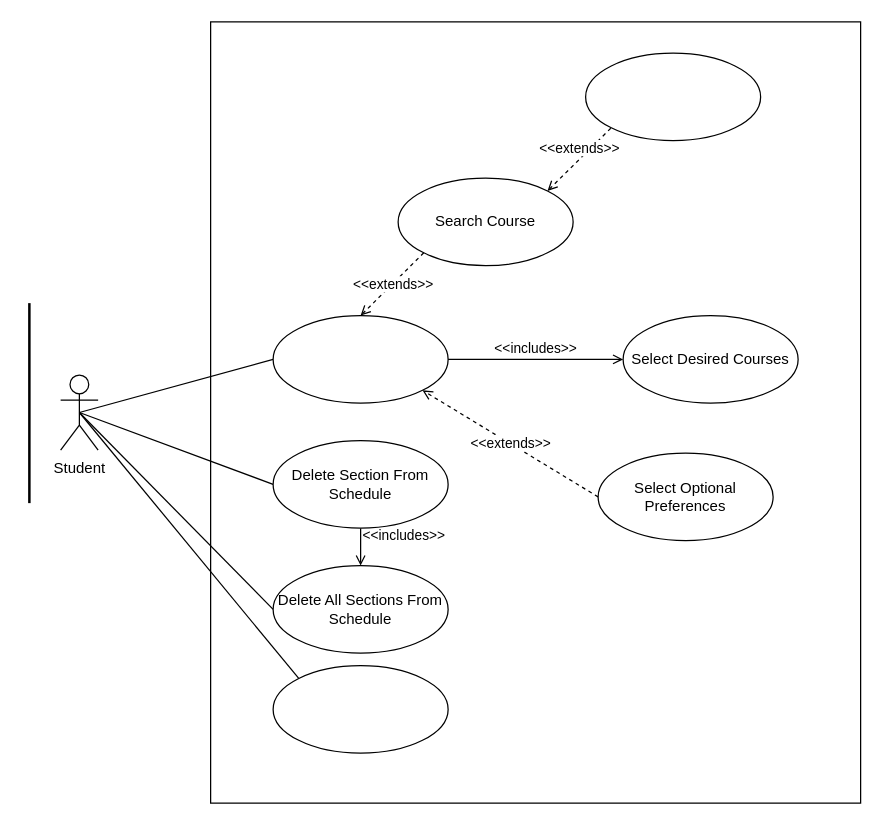
Image size: 883x825. Some labels were removed from this diagram. Here are the shapes that lost their labels. From the top down, the centre of each, then its label:
point (672, 96): Add Section to Schedule
point (360, 358): Generate Schedule
point (360, 708): Search Professor Info
